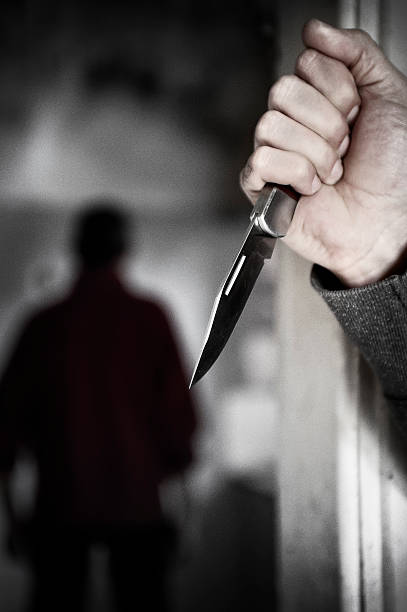knife: (184, 185, 300, 393)
